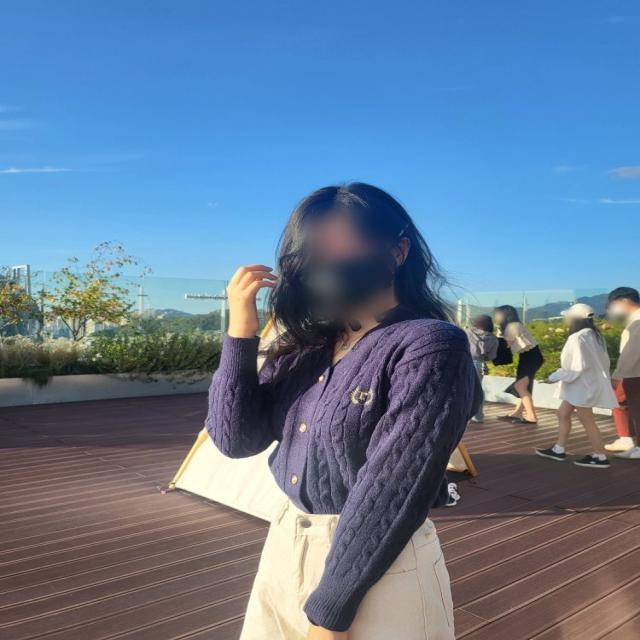cardigan: (208, 318, 480, 630)
cottonpants: (236, 498, 455, 640)
